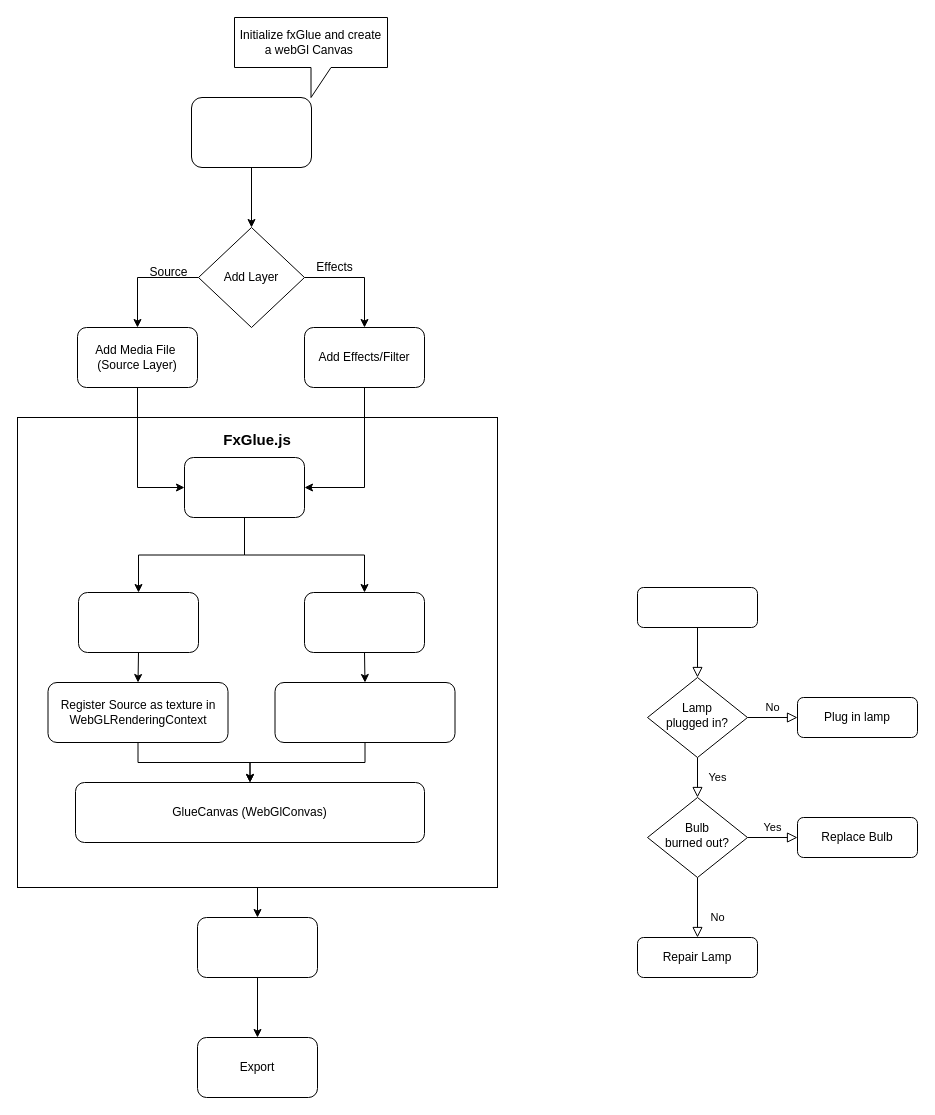
Image size: 935x1115. Some labels were removed from this diagram. Each missing label, with the centre of its shape:
"Create a new Project" belongs at point (251, 132).
"Glue (Binds texture, effects to webgl canvas)" belongs at point (244, 487).
"GlueProgram" belongs at point (364, 622).
"GlueTexture" belongs at point (138, 622).
"Lamp doesn't work" belongs at point (697, 607).
"Register effects as program in WebGLRenderingContext" belongs at point (364, 712).
"Render" belongs at point (257, 947).
